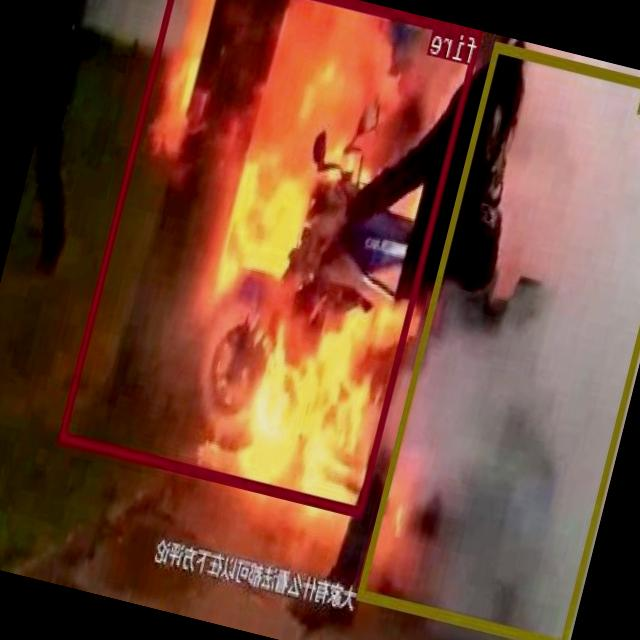fire: (58, 0, 484, 517)
smoke: (358, 39, 640, 640)
